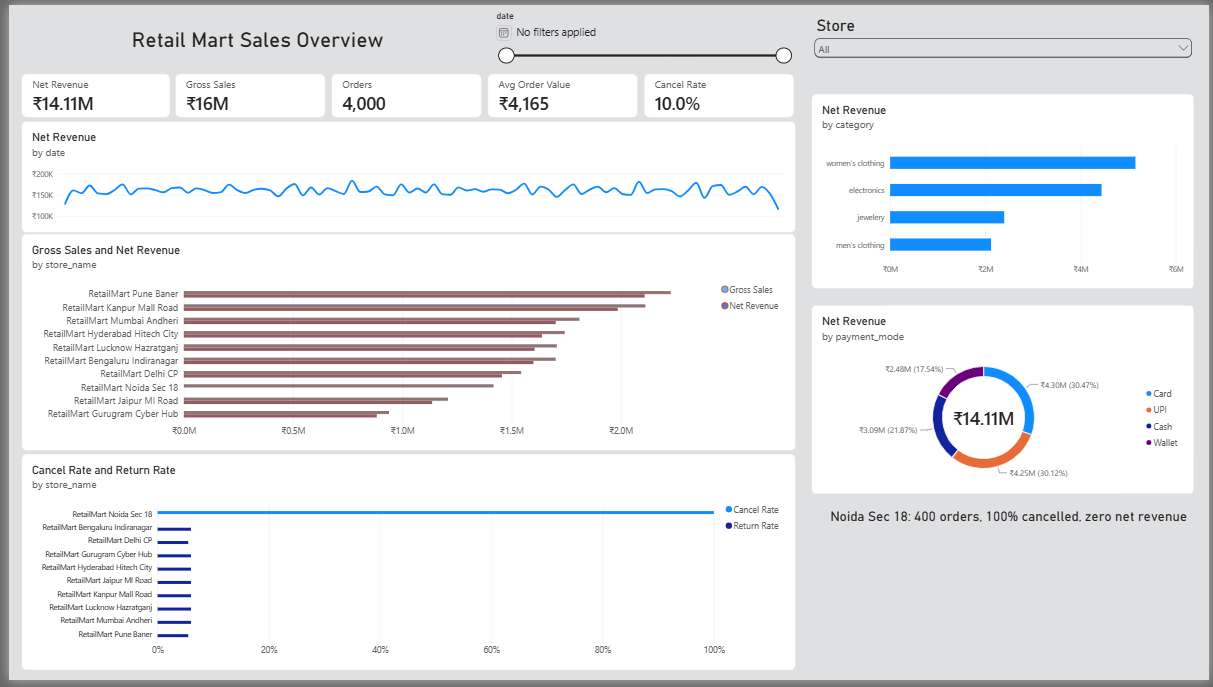

Layout of this report page (visuals, bound fields, positions):
{"tool":"powerbi","page":{"name":"Sales","canvas":[1920,1080],"ordinal":0},"visuals":[{"type":"clusteredBarChart","fields":{"Category":["dim_store.store_name"],"Y":["fact_sales.Gross Sales","fact_sales.Net Revenue"]},"box":[20,366.7,1238,347],"z":0},{"type":"cardVisual","fields":{"Data":["fact_sales.Net Revenue"]},"box":[20,110.7,238,70],"z":1000},{"type":"cardVisual","fields":{"Data":["fact_sales.Gross Sales"]},"box":[266,110.3,240,70],"z":2000},{"type":"cardVisual","fields":{"Data":["fact_sales.Orders"]},"box":[516,110.3,240,70],"z":3000},{"type":"cardVisual","fields":{"Data":["fact_sales.Avg Order Value"]},"box":[766,110.3,240,70],"z":4000},{"type":"cardVisual","fields":{"Data":["fact_sales.Cancel Rate"]},"box":[1016,110.3,240,70],"z":5000},{"type":"lineChart","fields":{"Category":["dim_date.date"],"Y":["fact_sales.Net Revenue"]},"box":[20,185,1238,178],"z":6000},{"type":"clusteredBarChart","fields":{"Category":["dim_product.category"],"Y":["fact_sales.Net Revenue"]},"box":[1284,142,612,312],"z":7000},{"type":"donutChart","fields":{"Category":["fact_sales.payment_mode"],"Y":["fact_sales.Net Revenue"]},"box":[1284,480,612,302],"z":8000},{"type":"clusteredBarChart","fields":{"Category":["dim_store.store_name"],"Y":["fact_sales.Cancel Rate","fact_sales.Return Rate"]},"box":[20,718.3,1238,346.7],"z":9000},{"type":"slicer","fields":{"Values":["dim_date.date"]},"box":[772,8,483.3,118.3],"z":10000},{"type":"slicer","fields":{"Values":["dim_store.store_name"]},"box":[1284,18,614,108],"z":11000},{"type":"textbox","title":"Retail Mart Sales Overview","box":[42,36,712,90],"z":12000},{"type":"textbox","title":"Noida Sec 18: 400 orders, 100% cancelled, zero net revenue","box":[1314,806,606,68],"z":13000}]}

Visuals, with their boxes in screenshot pixels (x1, y1, x2, y2), scaled from the page's 1920x1080 canvas onto the 1213x687 screenshot:
clusteredBarChart - dim_store.store_name x fact_sales.Gross Sales: <box>13,233,795,454</box>
cardVisual - fact_sales.Net Revenue: <box>13,70,163,115</box>
cardVisual - fact_sales.Gross Sales: <box>168,70,320,115</box>
cardVisual - fact_sales.Orders: <box>326,70,478,115</box>
cardVisual - fact_sales.Avg Order Value: <box>484,70,636,115</box>
cardVisual - fact_sales.Cancel Rate: <box>642,70,794,115</box>
lineChart - dim_date.date x fact_sales.Net Revenue: <box>13,118,795,231</box>
clusteredBarChart - dim_product.category x fact_sales.Net Revenue: <box>811,90,1198,289</box>
donutChart - fact_sales.payment_mode x fact_sales.Net Revenue: <box>811,305,1198,497</box>
clusteredBarChart - dim_store.store_name x fact_sales.Cancel Rate: <box>13,457,795,677</box>
slicer - dim_date.date: <box>488,5,793,80</box>
slicer - dim_store.store_name: <box>811,11,1199,80</box>
"Retail Mart Sales Overview" textbox: <box>27,23,476,80</box>
"Noida Sec 18: 400 orders, 100% cancelled, zero net revenue" textbox: <box>830,513,1212,556</box>
